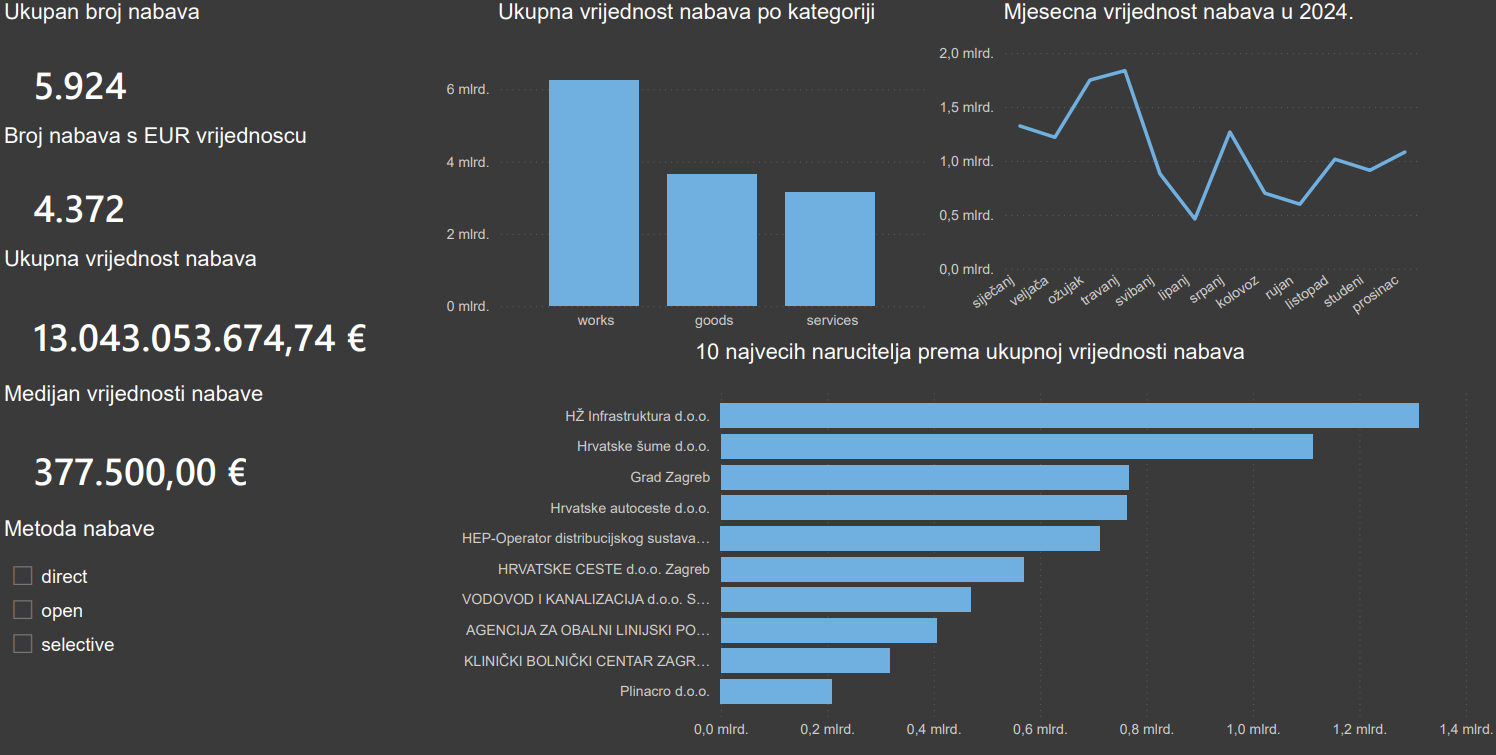

The page's visual inventory and layout, read from the dashboard file:
{"tool":"powerbi","page":{"name":"Stranica 1","canvas":[1280,720],"ordinal":0},"visuals":[{"type":"cardVisual","title":"Ukupan broj nabava","fields":{"Data":["public tenders.Ukupan broj nabava"]},"box":[0,0,376.8,105.7],"z":0},{"type":"cardVisual","title":"Broj nabava s EUR vrijednoscu","fields":{"Data":["public tenders.Broj nabava s EUR vrijednošću"]},"box":[0,105.7,376.8,105.7],"z":1},{"type":"cardVisual","title":"Ukupna vrijednost nabava","fields":{"Data":["public tenders.Ukupna vrijednost nabava"]},"box":[0,211.3,376.8,114.6],"z":2},{"type":"cardVisual","title":"Medijan vrijednosti nabave","fields":{"Data":["public tenders.Medijan vrijednosti nabave"]},"box":[0,326,376.8,114.6],"z":3},{"type":"clusteredColumnChart","title":"Ukupna vrijednost nabava po kategoriji","fields":{"Category":["public tenders.procurement_category"],"Y":["Sum(public tenders.value_eur)"]},"box":[376.8,0,419.7,290.1],"z":4},{"type":"lineChart","title":"Mjesecna vrijednost nabava u 2024.","fields":{"Category":["public tenders.publication_date.Varijacija.Hijerarhija datuma.Mjesec"],"Y":["Sum(public tenders.value_eur)"]},"box":[796.5,0,419.7,290.1],"z":5},{"type":"clusteredBarChart","title":"10 najvecih narucitelja prema ukupnoj vrijednosti nabava","fields":{"Category":["public tenders.buyer_name"],"Y":["Sum(public tenders.value_eur)"]},"box":[376.8,290.1,903.2,348.9],"z":6},{"type":"slicer","title":"Metoda nabave","fields":{"Values":["public tenders.procurement_method"]},"box":[0,441,377,198],"z":7}]}

Visuals, with their boxes on the page's 1280x720 design canvas (x1, y1, x2, y2). These are canvas units, not pixel positions in the 1496x755 screenshot, which may show the page scaled, cropped or inside an application window:
"Ukupan broj nabava" cardVisual: 0 0 377 106
"Broj nabava s EUR vrijednoscu" cardVisual: 0 106 377 211
"Ukupna vrijednost nabava" cardVisual: 0 211 377 326
"Medijan vrijednosti nabave" cardVisual: 0 326 377 441
"Ukupna vrijednost nabava po kategoriji" clusteredColumnChart: 377 0 796 290
"Mjesecna vrijednost nabava u 2024." lineChart: 796 0 1216 290
"10 najvecih narucitelja prema ukupnoj vrijednosti nabava" clusteredBarChart: 377 290 1280 639
"Metoda nabave" slicer: 0 441 377 639
